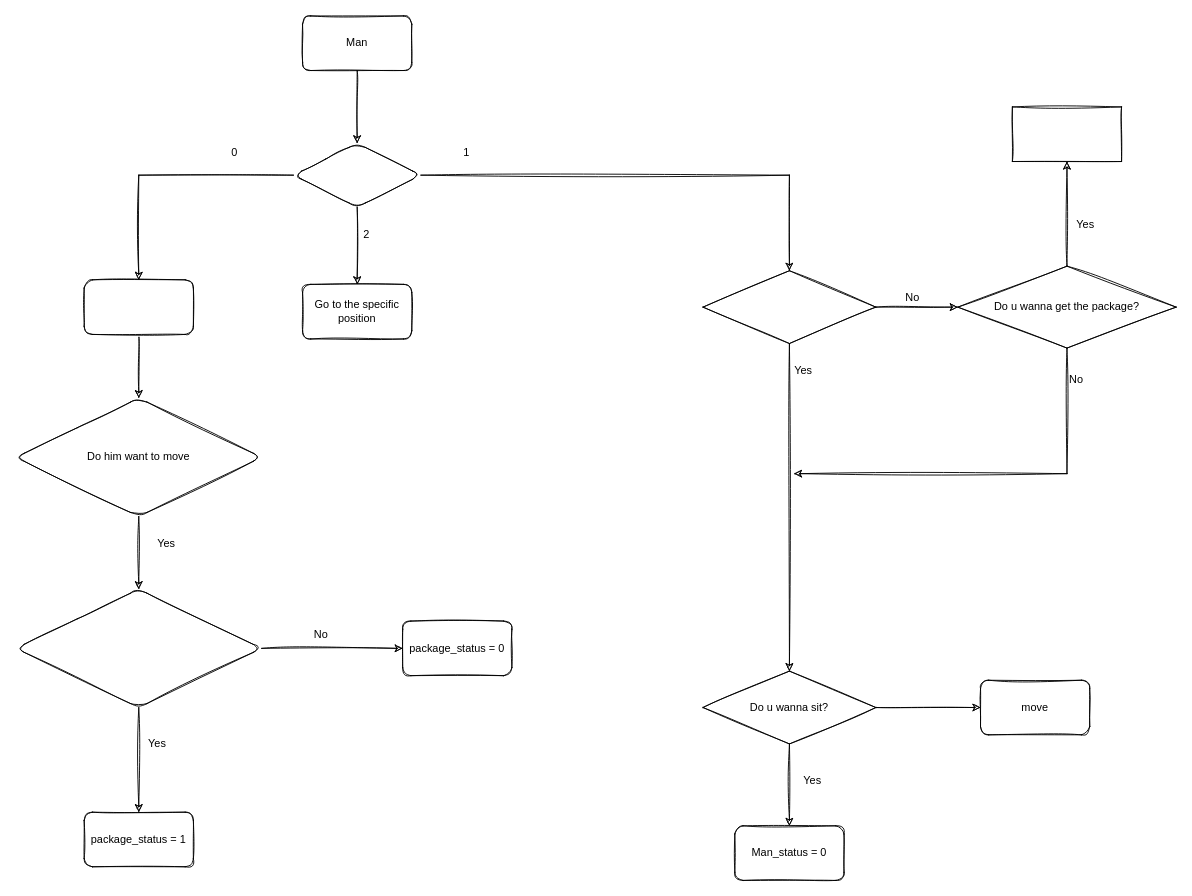
Image size: 1192x896. Some labels were removed from this diagram. The shapes that lost their labels are listed below. From the top down, each one's centre as x and y in pixels, then its label:
At [1066,134]: "go ahead to package position".
At [357,174]: "Move_status".
At [138,306]: "Sit status".
At [789,307]: "Carry package?".
At [138,648]: "Wanna carray the package?".
